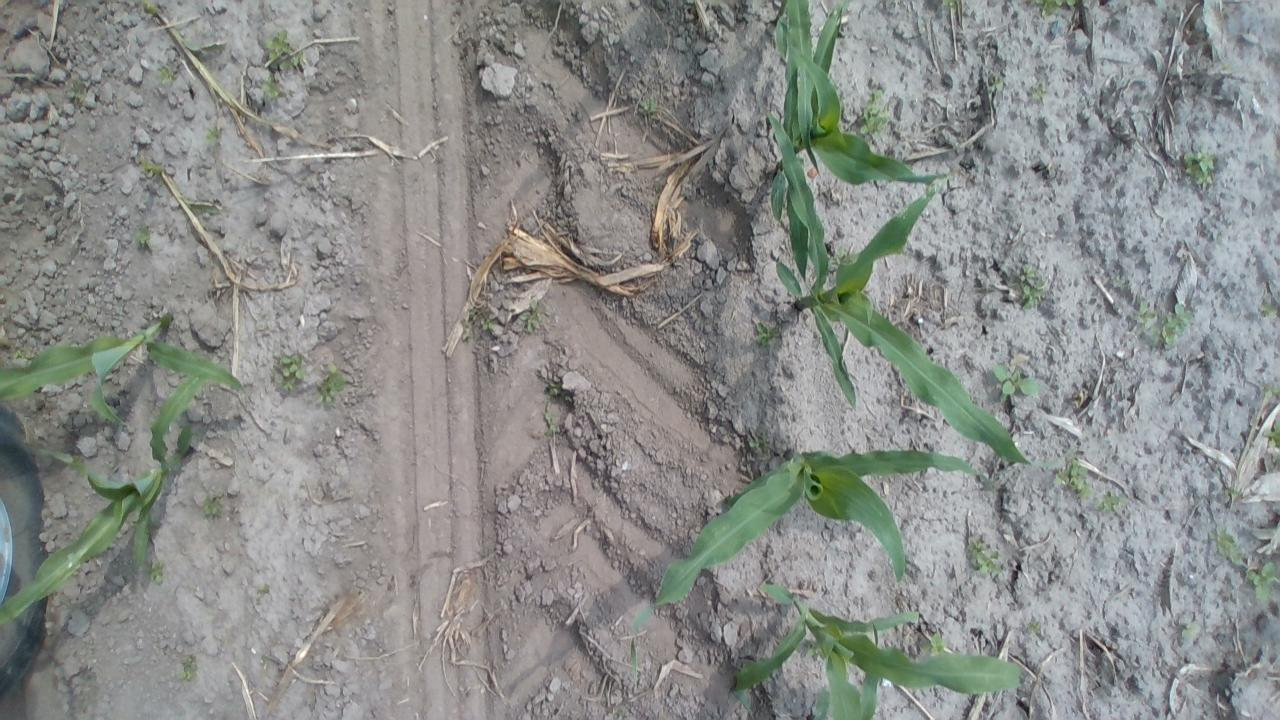Maize: (759, 106, 1032, 470), (624, 446, 996, 684), (0, 366, 218, 628), (766, 0, 956, 227), (730, 580, 1024, 720), (0, 308, 246, 430)
Weeds: (1210, 526, 1280, 610), (538, 374, 580, 441), (1178, 139, 1226, 196), (966, 530, 1014, 584), (992, 358, 1046, 406), (852, 86, 892, 146), (1005, 262, 1051, 314), (260, 30, 314, 72), (314, 360, 355, 411), (1156, 300, 1198, 348), (1053, 454, 1094, 501), (272, 349, 306, 397), (1022, 0, 1096, 20), (132, 154, 179, 185), (748, 317, 792, 348), (1092, 485, 1132, 518), (466, 303, 502, 337), (1128, 296, 1160, 334), (517, 296, 546, 335), (64, 74, 94, 110), (258, 75, 289, 109), (1021, 618, 1056, 648), (916, 630, 950, 660), (1175, 619, 1211, 646), (198, 494, 232, 522), (1220, 478, 1248, 512), (744, 423, 774, 454), (132, 0, 166, 27), (143, 557, 171, 588), (130, 224, 159, 252), (1021, 76, 1050, 103), (632, 97, 660, 124), (1254, 376, 1280, 405), (155, 61, 186, 85), (196, 198, 228, 221), (984, 68, 1008, 96), (1254, 294, 1278, 322), (832, 246, 861, 269), (252, 577, 272, 608), (1259, 417, 1280, 446), (111, 560, 136, 583), (178, 652, 196, 682), (198, 126, 224, 144), (257, 651, 278, 669), (940, 0, 971, 11), (84, 605, 102, 617), (104, 590, 117, 601)
